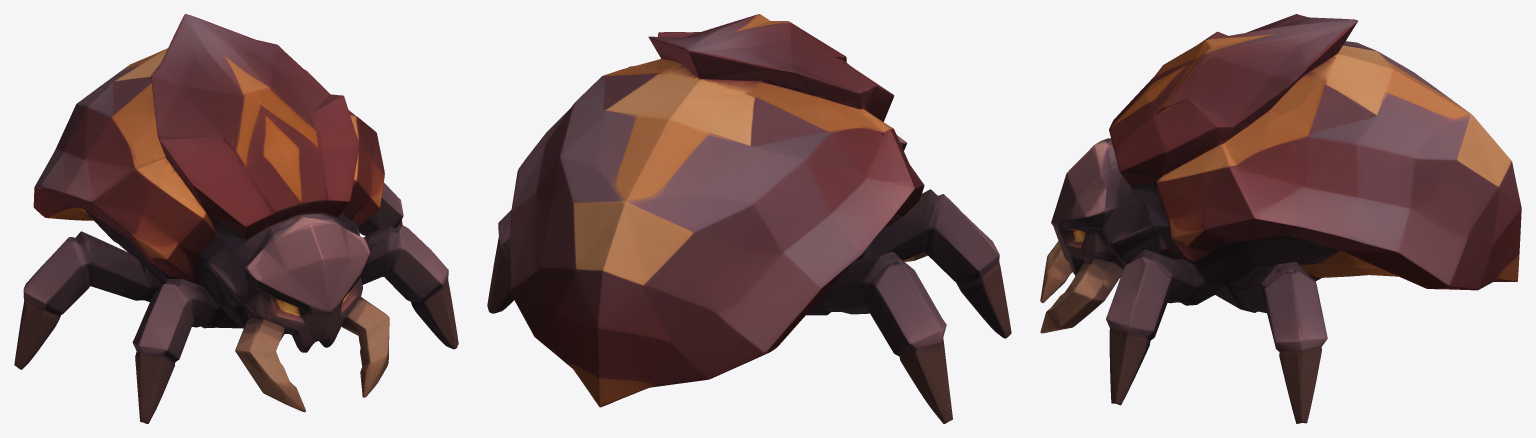
File: bug-original.glb
3 views of the same model, side by side, from view 1: azimuth 30°, elevation 25°; view 2: azimuth 150°, elevation 25°; view 3: azimuth 270°, elevation 25° (orthographic). The views are drawn at different scales.
Parts seen in each view (by area): view 1: node_0; view 2: node_0; view 3: node_0.
Part boxes in pixels (x1,y1,x2,y2): node_0: [14, 14, 458, 423]; node_0: [487, 14, 1011, 423]; node_0: [1040, 14, 1521, 423].
Bounding box in the file's own units: 0.951 × 0.6639 × 0.9507.
Materials: 1 (1 with a texture image).
